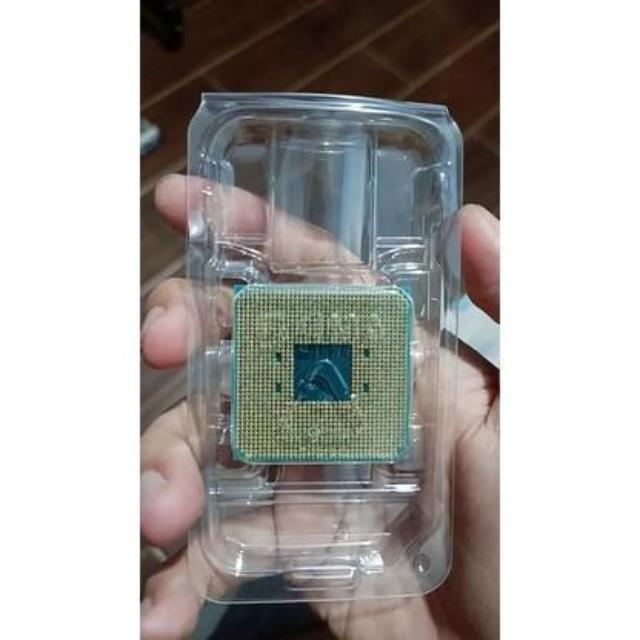CPU: (231, 281, 411, 464)
